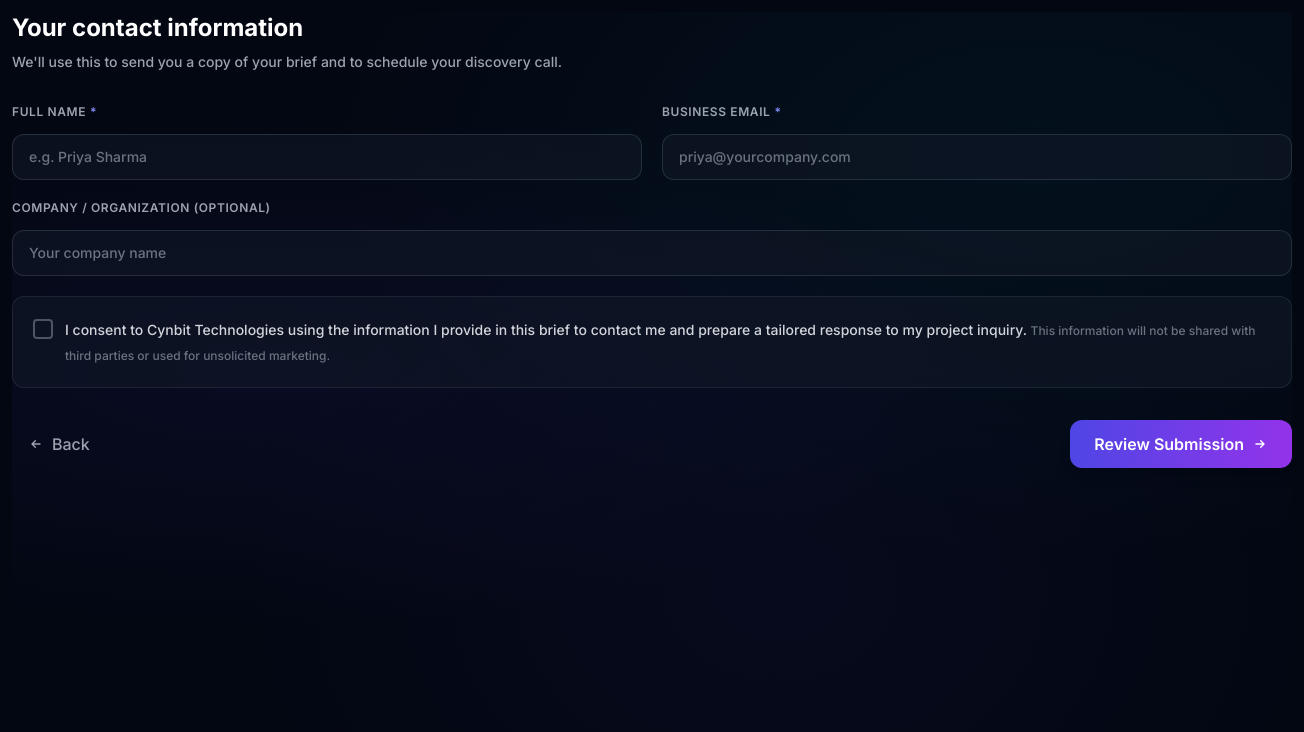
Test case: Step4Contact › requires consent checkbox
Type "Test User" into the field labelled "Full Name*" at (327,157), box [12,134,642,180]
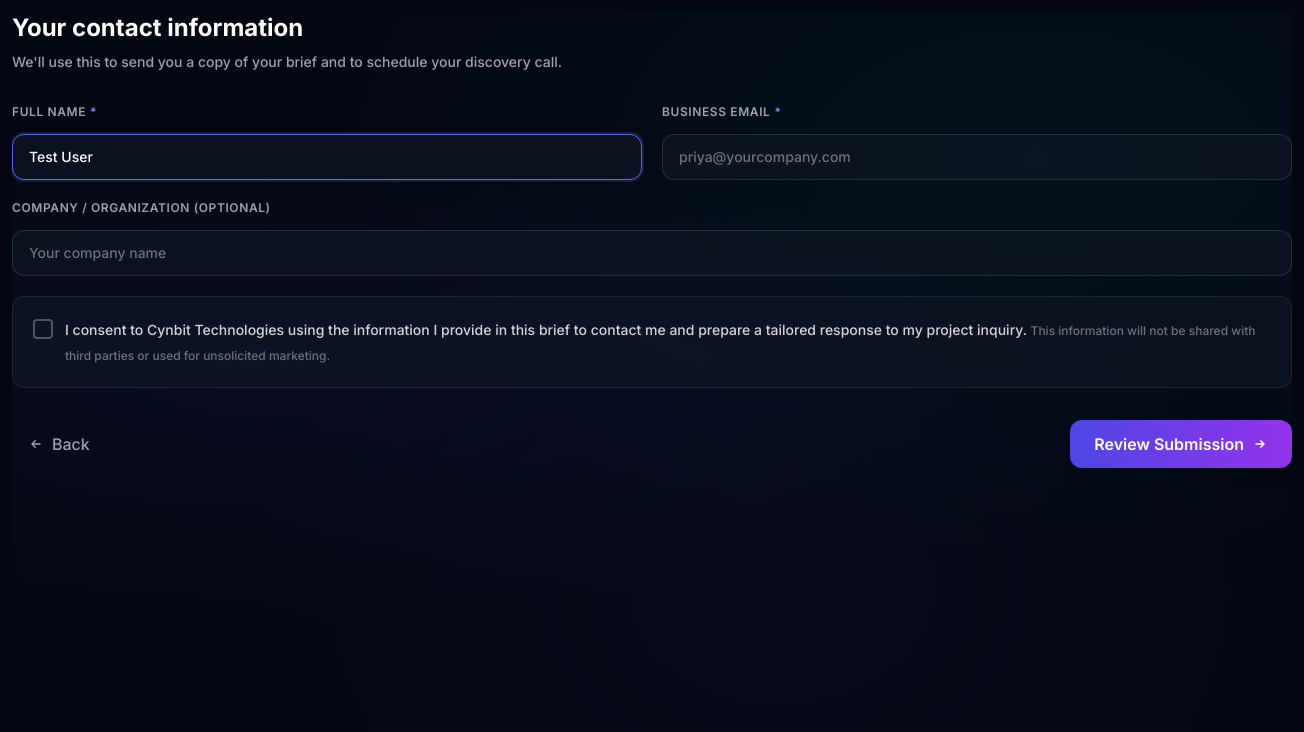
Type "test@example.com" into the field labelled "Business Email*" at (977,157), box [662,134,1292,180]
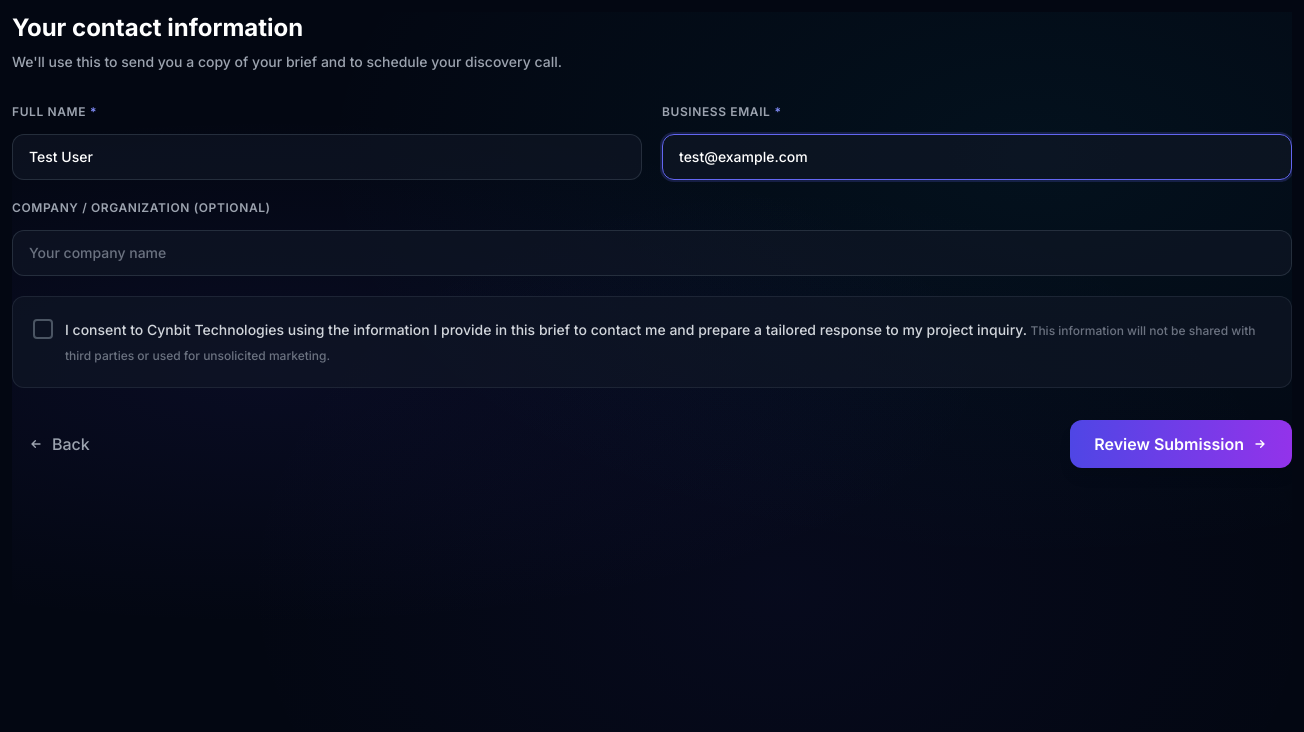
Click the button "Review Submission" at (1181,444), box [1070,420,1292,468]
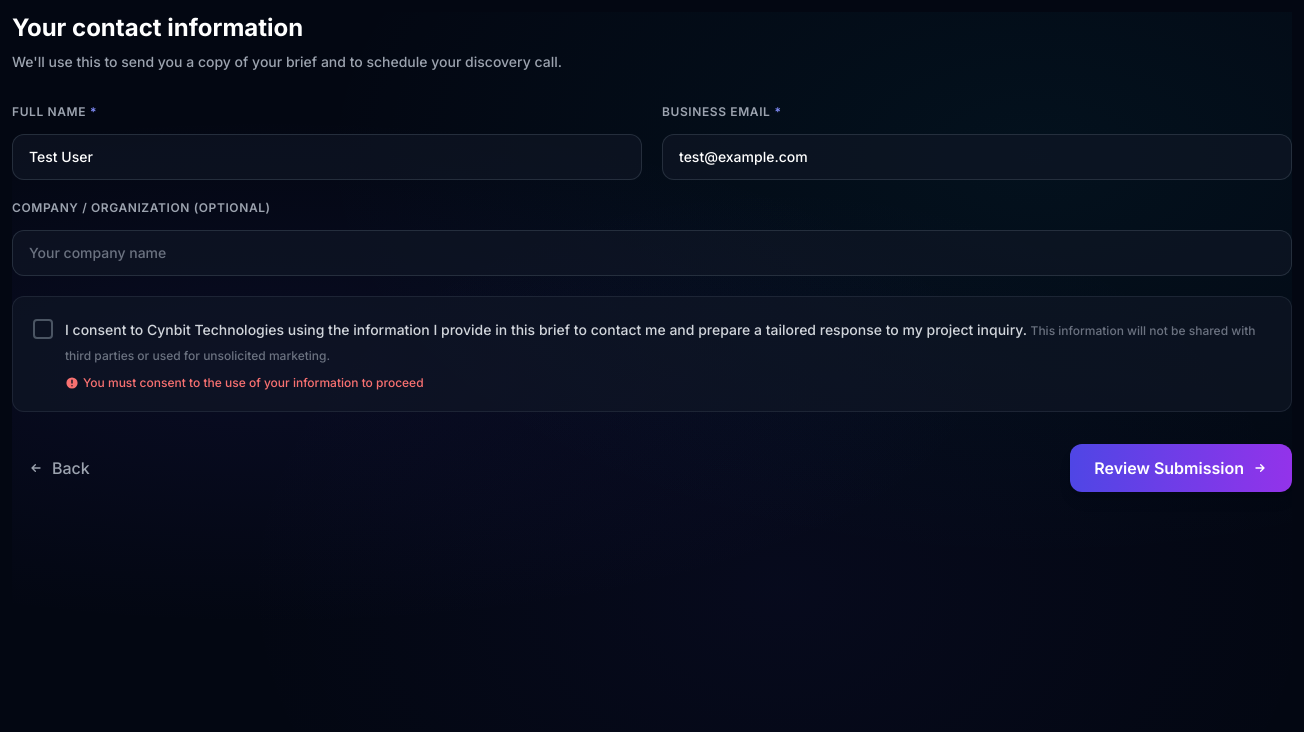
Result: the message shows "consent to the use of your information" at [83,374,424,390]
